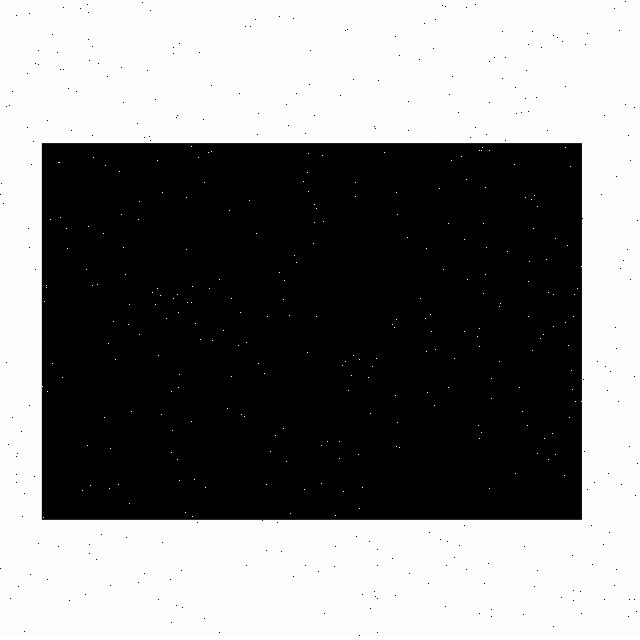Rayo_ko_Saag: (43, 144, 583, 521)
